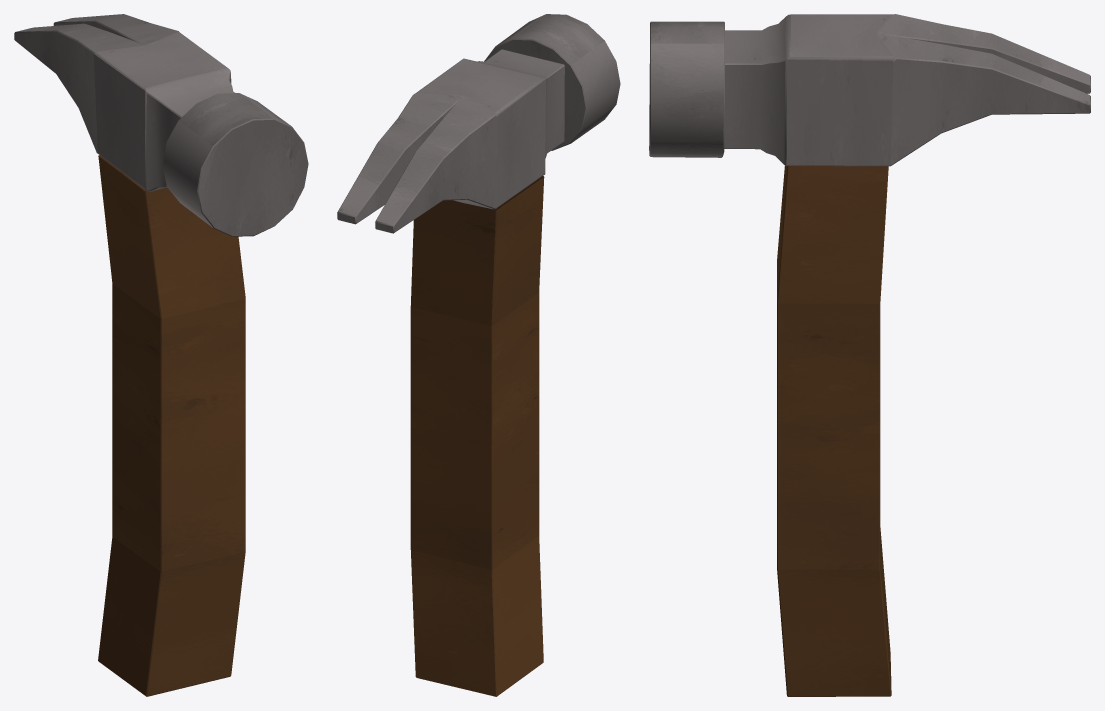
Rendered from hammer.fbx.
3 views of the same model, side by side, from view 1: azimuth 30°, elevation 25°; view 2: azimuth 150°, elevation 25°; view 3: azimuth 270°, elevation 25° (orthographic). The views are drawn at different scales.
Visible parts, largest first — view 1: Cube.014; view 2: Cube.014; view 3: Cube.014.
Boxes of the visible parts, <box> form: Cube.014: <box>14,14,308,696</box>; Cube.014: <box>337,14,620,696</box>; Cube.014: <box>649,14,1090,696</box>.
Bounding box in the file's own units: 0.1493 × 0.7844 × 0.4852.
